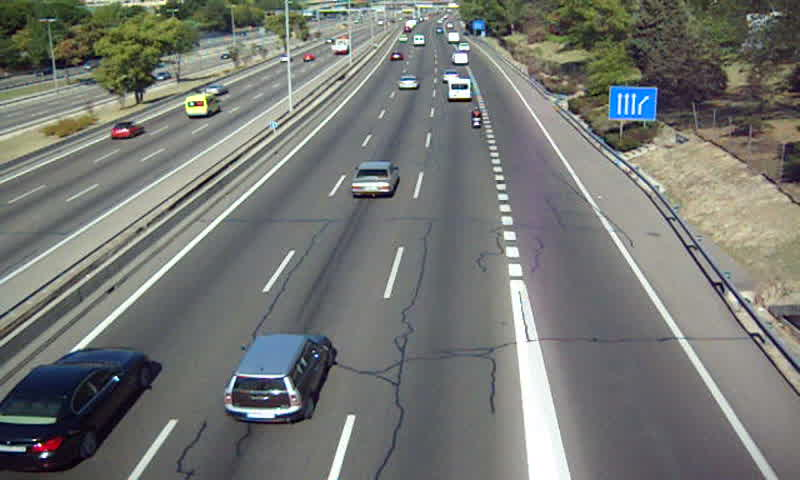car: (1, 348, 146, 474), (226, 334, 331, 423), (350, 160, 398, 197), (397, 75, 418, 91), (442, 69, 459, 83)
motorcycle: (471, 106, 484, 128)
van: (448, 76, 472, 100), (452, 53, 470, 66)
